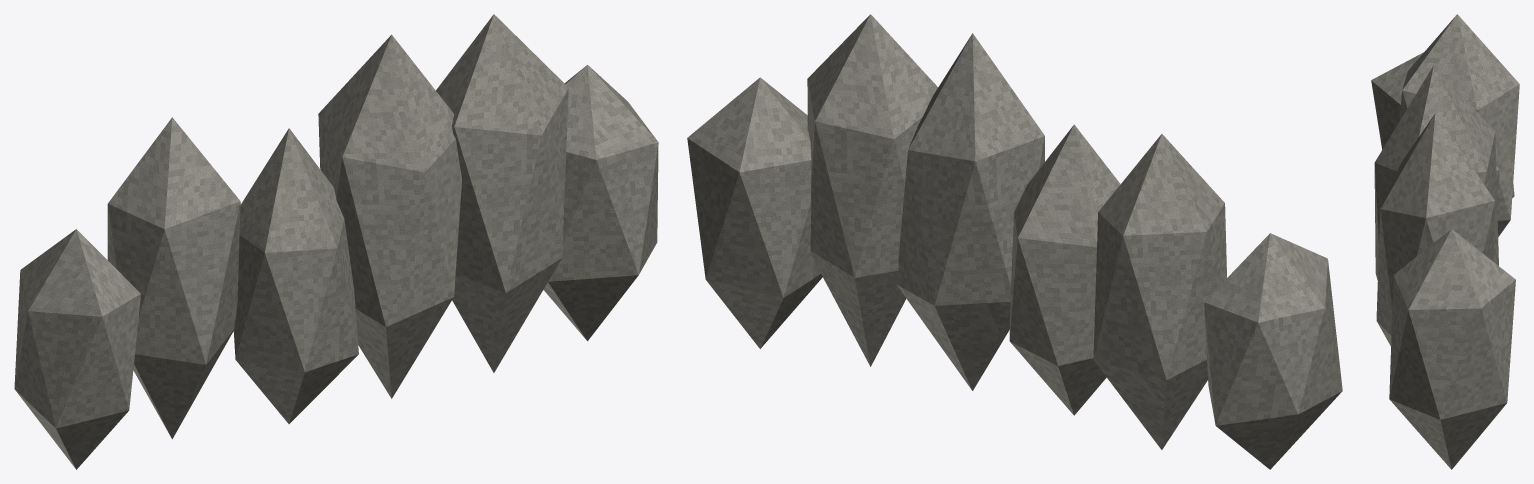
3 renders of one model, left to right at view 1: azimuth 30°, elevation 25°; view 2: azimuth 150°, elevation 25°; view 3: azimuth 270°, elevation 25°, orthographic. The views are drawn at different scales.
Visible parts, largest first — view 1: ST2-T05_Mesh; view 2: ST2-T05_Mesh; view 3: ST2-T05_Mesh.
Part boxes in pixels (x1,y1,x2,y2): ST2-T05_Mesh: [14, 14, 658, 469]; ST2-T05_Mesh: [687, 14, 1342, 469]; ST2-T05_Mesh: [1371, 14, 1519, 469].
Bounding box in the file's own units: 7.96 × 4.4 × 1.87.
1 material, 1 textured.
